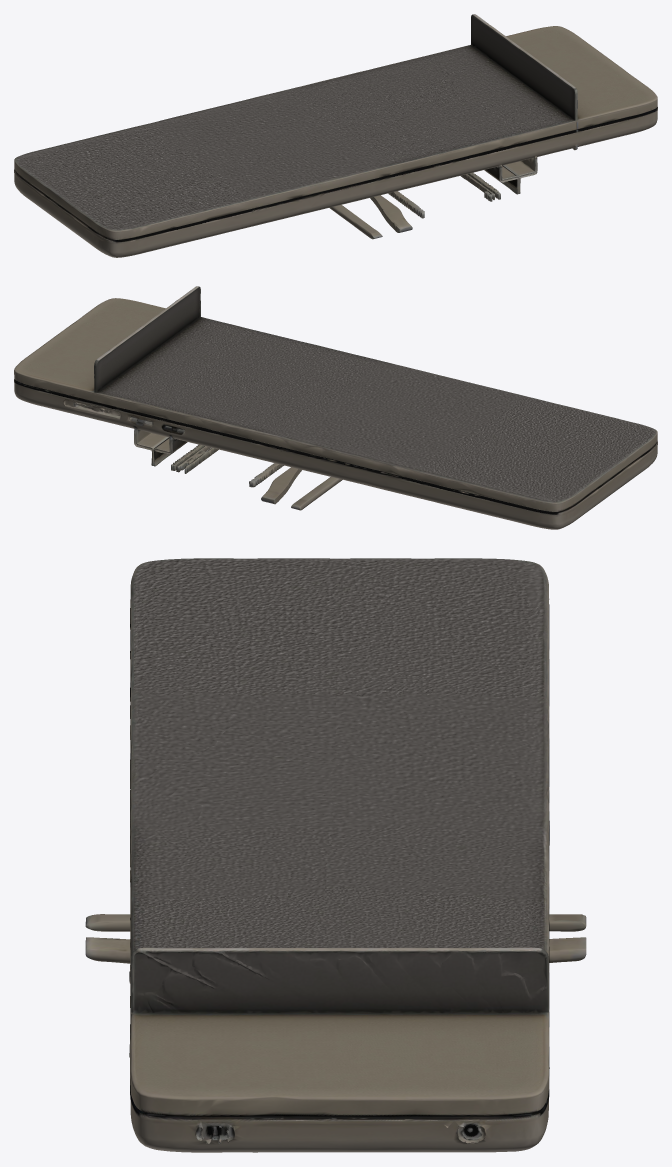
The model's file is model_mesh-wTBg81hlp4aYRYEHUDwqP_model.glb.
3 renders of one model, top to bottom at view 1: azimuth 30°, elevation 25°; view 2: azimuth 150°, elevation 25°; view 3: azimuth 270°, elevation 25°, orthographic. The views are drawn at different scales.
Visible parts, largest first — view 1: tripo_node_eb3978fd-da51-49f0-b0b2-e70758467888; view 2: tripo_node_eb3978fd-da51-49f0-b0b2-e70758467888; view 3: tripo_node_eb3978fd-da51-49f0-b0b2-e70758467888.
Part boxes in pixels (x1,y1,x2,y2): tripo_node_eb3978fd-da51-49f0-b0b2-e70758467888: [14, 14, 657, 257]; tripo_node_eb3978fd-da51-49f0-b0b2-e70758467888: [14, 286, 657, 529]; tripo_node_eb3978fd-da51-49f0-b0b2-e70758467888: [85, 558, 586, 1152].
Size of the model in its own units: 6.24 by 1 by 2.43.
Materials: 1 (1 with a texture image).
